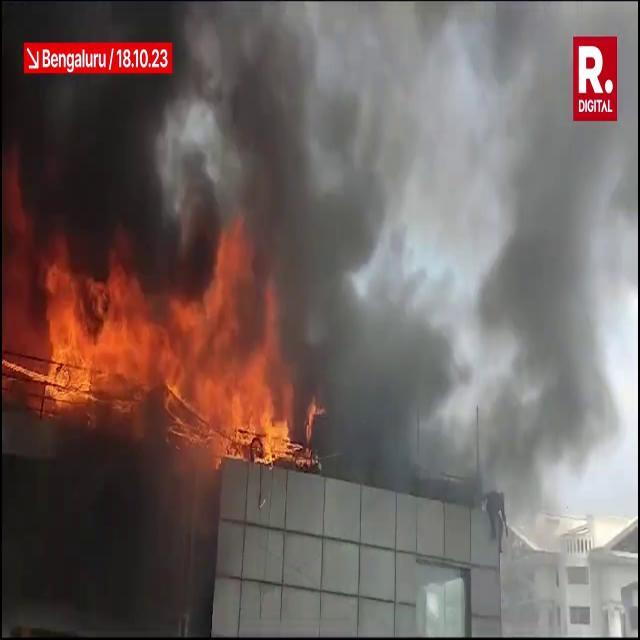Fire: (3, 235, 298, 468)
Smoke: (5, 2, 621, 414)
